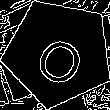O_NE: (27, 20, 90, 85)
